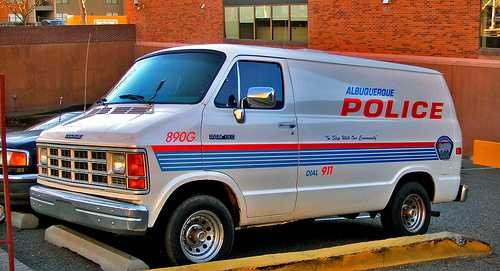Ambulance: (19, 40, 478, 271)
